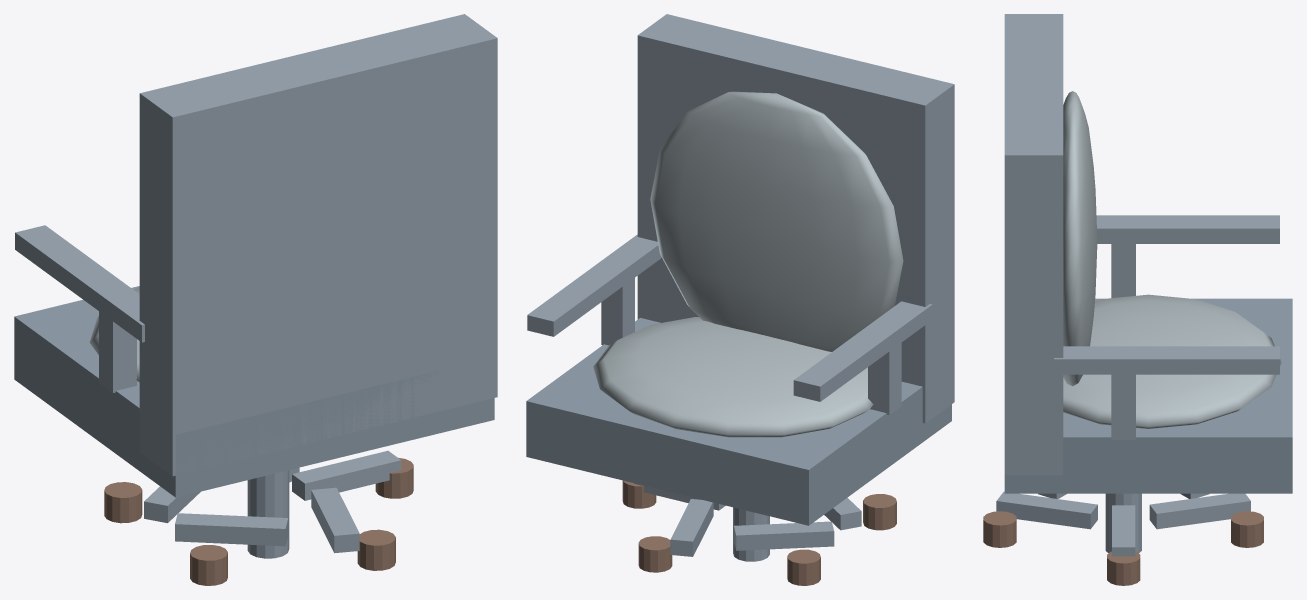
Rendered from chair.gltf.
The picture shows the model from 3 angles, left to right: view 1: azimuth 30°, elevation 25°; view 2: azimuth 150°, elevation 25°; view 3: azimuth 270°, elevation 25°; orthographic projection. The views are drawn at different scales.
Visible parts, largest first — view 1: Back frame, Ergonomic seat, Armrest, Wheel spoke 2, Wheel spoke 0, Armrest riser, Chair center column, Wheel spoke 1, Caster 3, Caster 2, Caster 1, Wheel spoke 3 (+1 smaller); view 2: Back cushion, Back frame, Ergonomic seat, Seat cushion, Armrest (×2), Armrest riser (×2), Wheel spoke 3, Wheel spoke 4, Caster 2, Caster 3, Caster 4, Chair center column (+2 smaller); view 3: Back frame, Ergonomic seat, Seat cushion, Armrest (×2), Back cushion, Armrest riser (×2), Wheel spoke 1, Wheel spoke 4, Wheel spoke 0, Caster 1, Caster 4, Chair center column (+1 smaller).
Part boxes in pixels (box(x1,y1,x2,y2)): Back frame: box(139, 14, 497, 476); Ergonomic seat: box(14, 286, 494, 497); Armrest: box(15, 225, 144, 342); Wheel spoke 2: box(175, 513, 288, 546); Wheel spoke 0: box(292, 450, 401, 500); Armrest riser: box(99, 311, 136, 392); Chair center column: box(247, 470, 289, 558); Wheel spoke 1: box(311, 487, 359, 553); Caster 3: box(104, 482, 142, 523); Caster 2: box(190, 545, 227, 585); Caster 1: box(357, 529, 395, 570); Wheel spoke 3: box(144, 486, 200, 523); Back cushion: box(650, 91, 903, 351); Back frame: box(637, 14, 954, 423); Ergonomic seat: box(526, 318, 951, 525); Seat cushion: box(593, 317, 873, 437); Armrest (×2): box(527, 234, 932, 401); Armrest riser (×2): box(601, 278, 901, 414); Wheel spoke 3: box(734, 521, 834, 550); Wheel spoke 4: box(670, 499, 713, 556); Caster 2: box(863, 494, 896, 530); Caster 3: box(787, 549, 820, 585); Caster 4: box(638, 536, 672, 572); Chair center column: box(733, 507, 769, 561); Back frame: box(1004, 14, 1063, 475); Ergonomic seat: box(1004, 298, 1292, 493); Seat cushion: box(1063, 294, 1281, 428); Armrest (×2): box(1054, 215, 1279, 374); Back cushion: box(1063, 91, 1097, 386); Armrest riser (×2): box(1111, 244, 1135, 439); Wheel spoke 1: box(996, 491, 1097, 529); Wheel spoke 4: box(1149, 493, 1250, 529); Wheel spoke 0: box(1112, 505, 1135, 556); Caster 1: box(983, 511, 1016, 547); Caster 4: box(1231, 511, 1263, 547); Chair center column: box(1105, 493, 1141, 553).
Bounding box in the file's own units: 1.1 × 1.66 × 0.9981.
